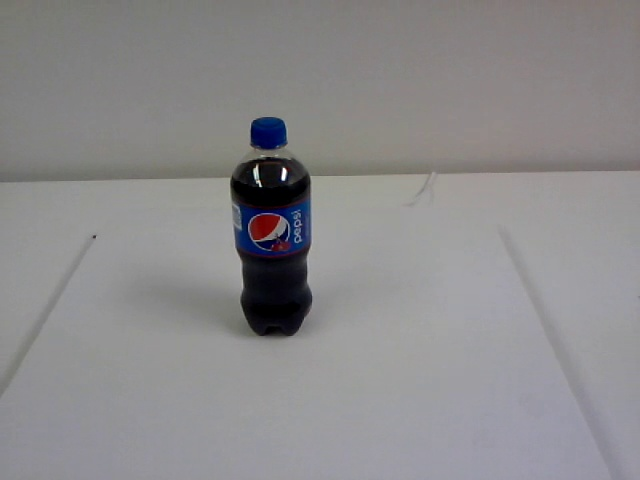botolplastik: (230, 118, 312, 336)
